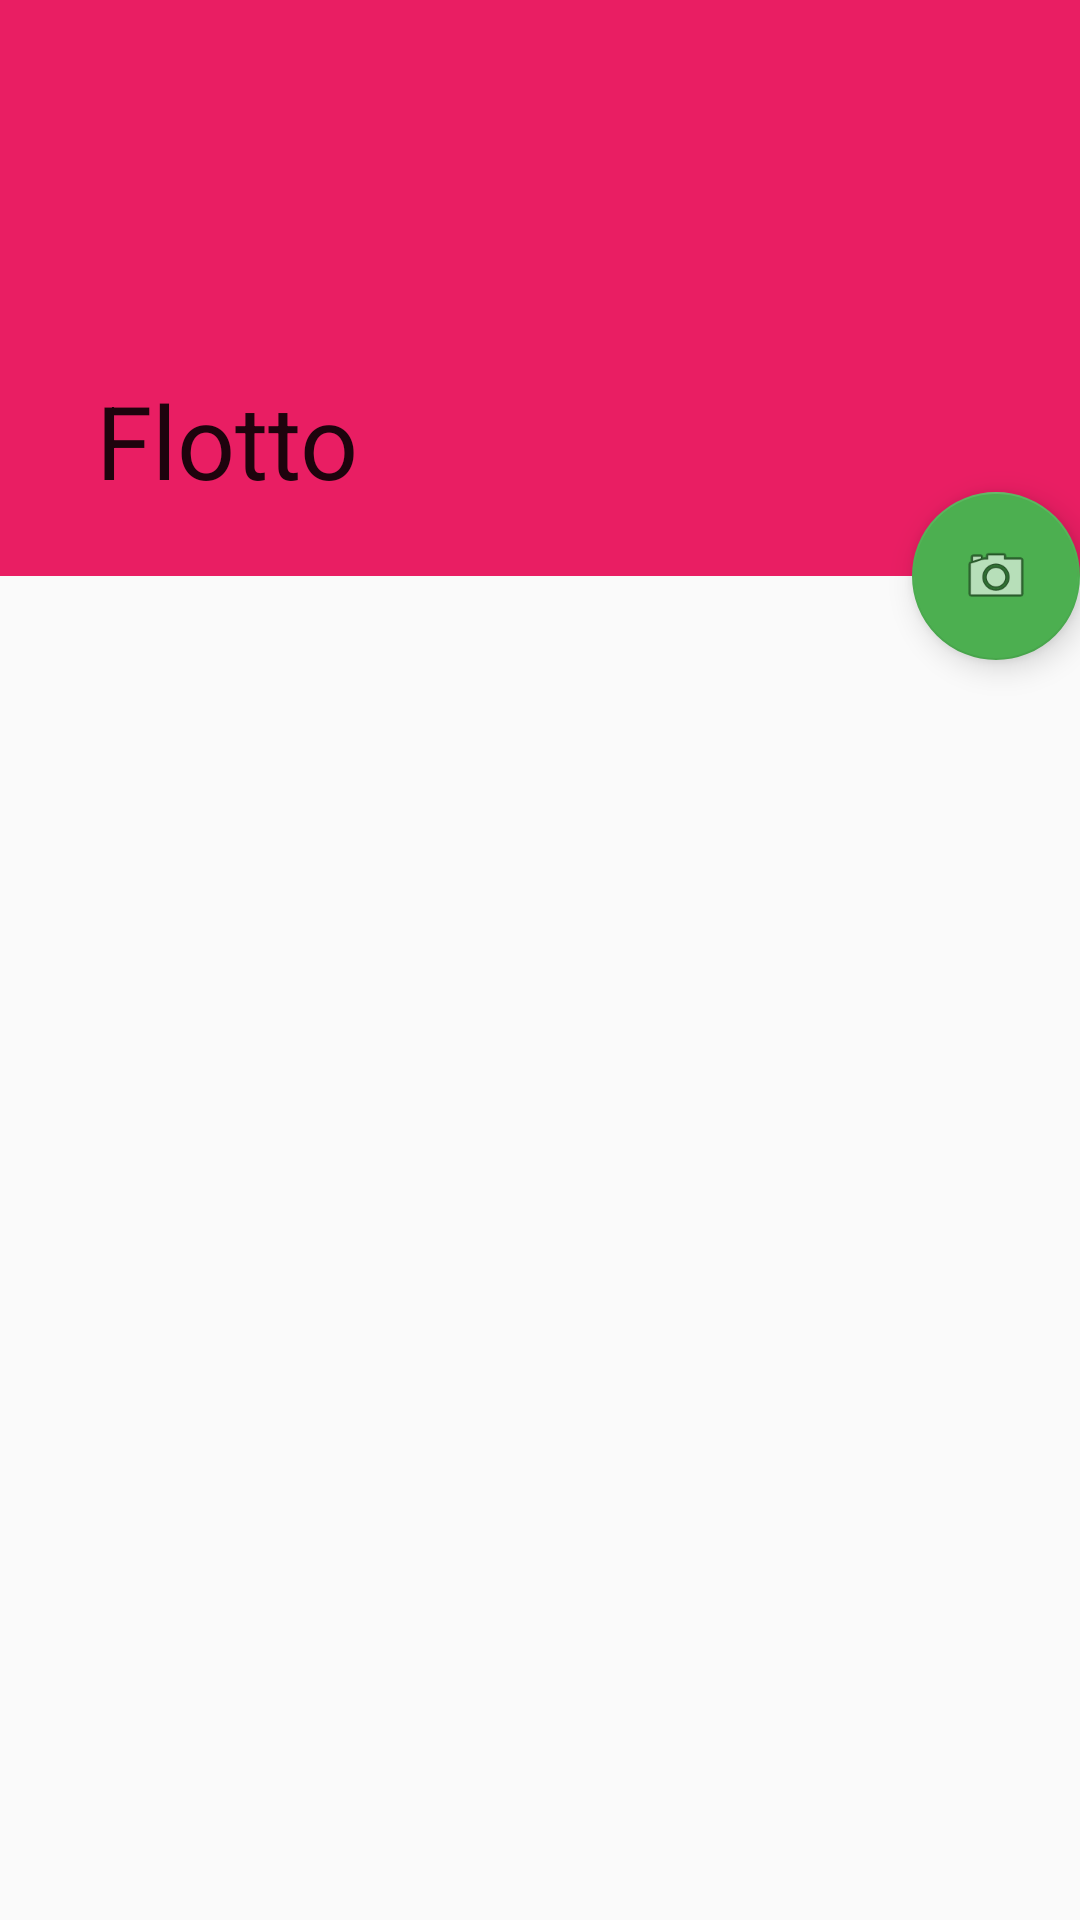

Icons on this 1080×1920 Android screen, each with the point to tap as (x,y):
camera: (996,576)
